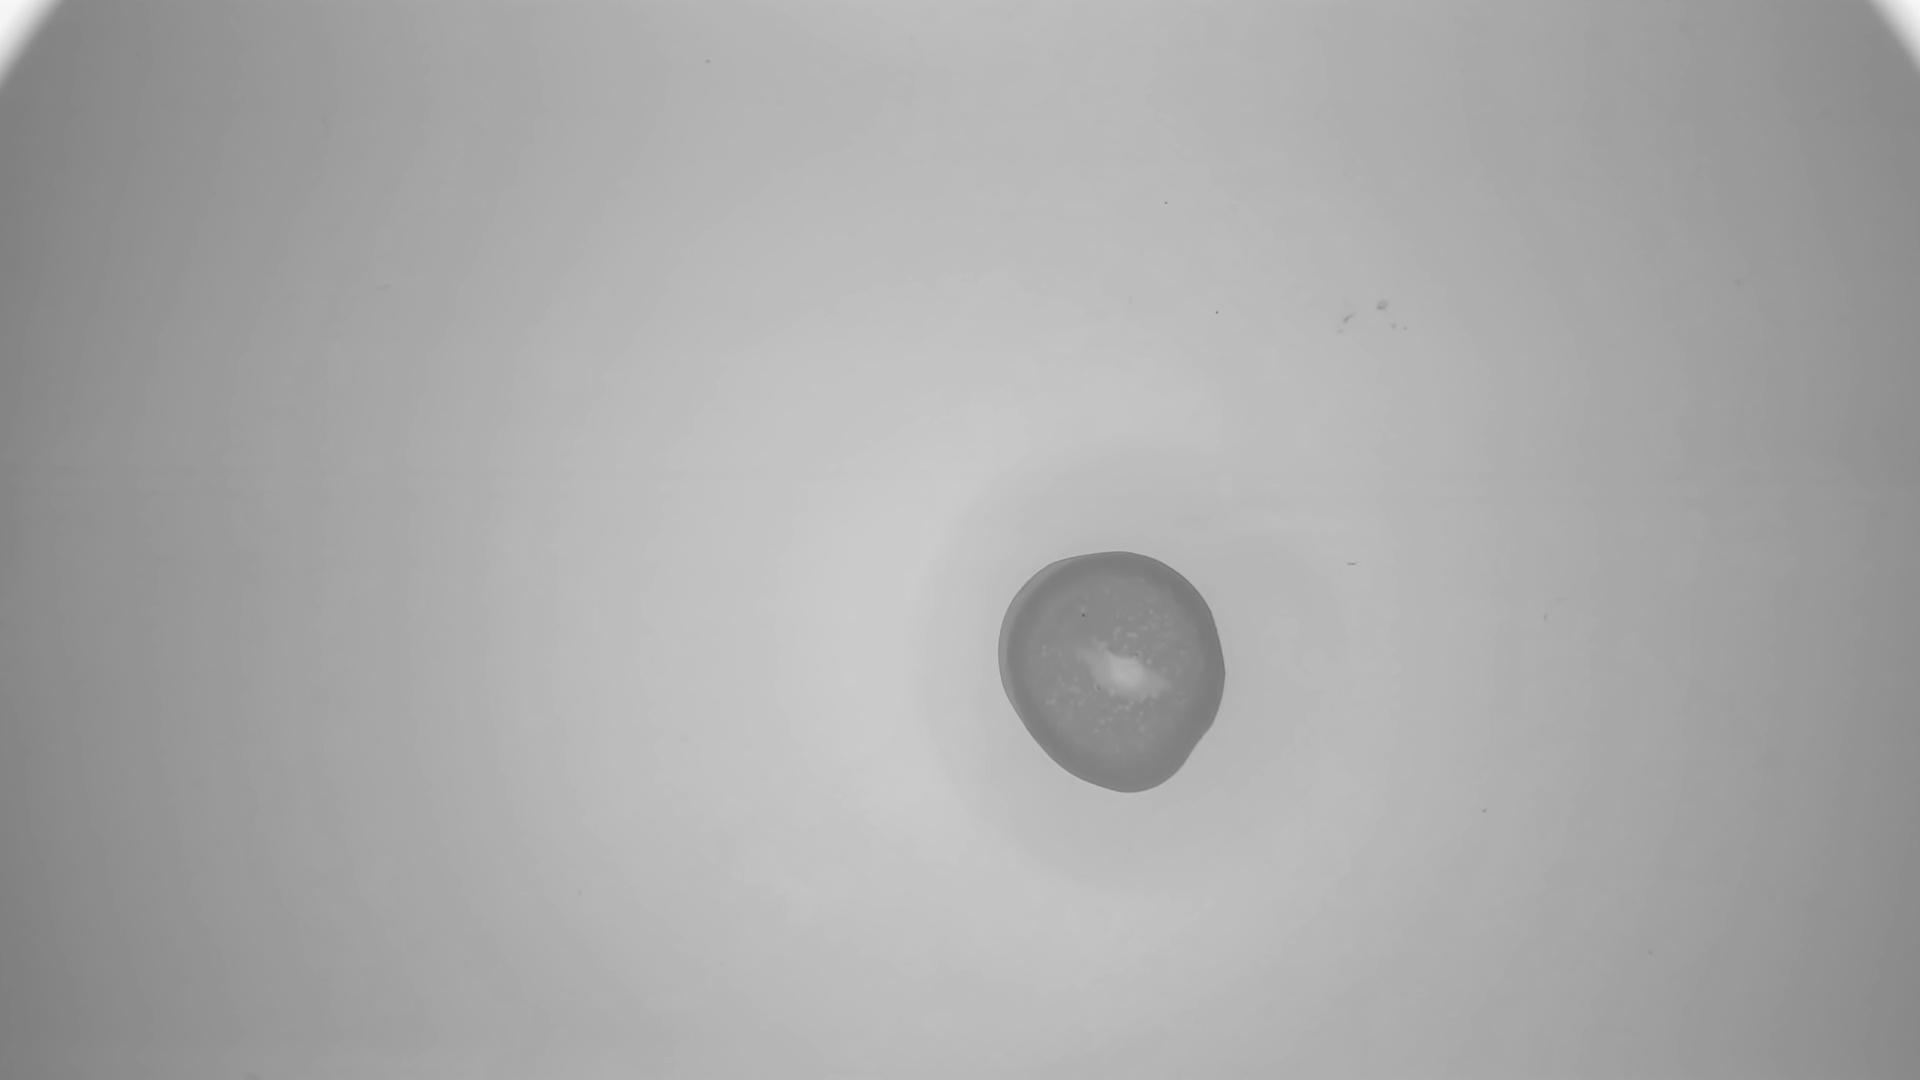abnormal: (994, 549, 1226, 796)
